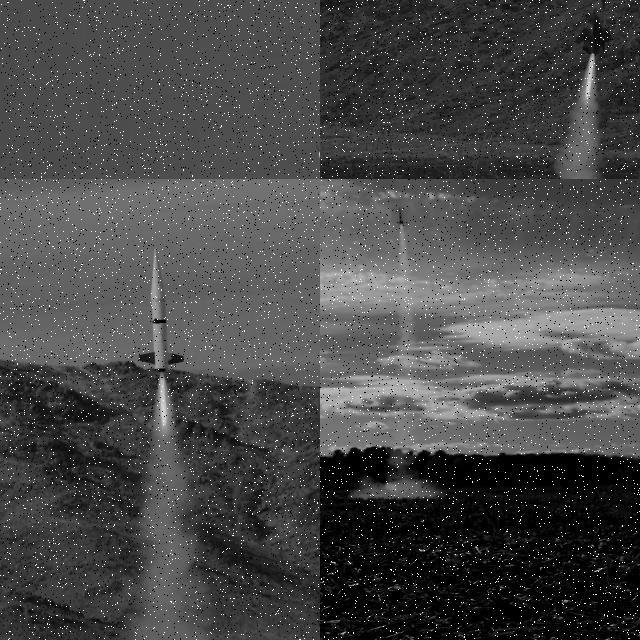Rocket: (138, 248, 185, 374), (572, 0, 615, 55), (398, 207, 404, 224), (316, 144, 320, 153)
